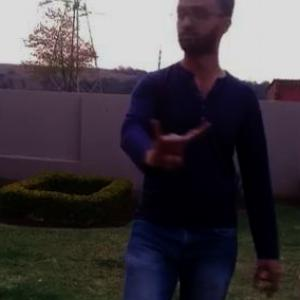takeoff-hand: (142, 106, 214, 182)
